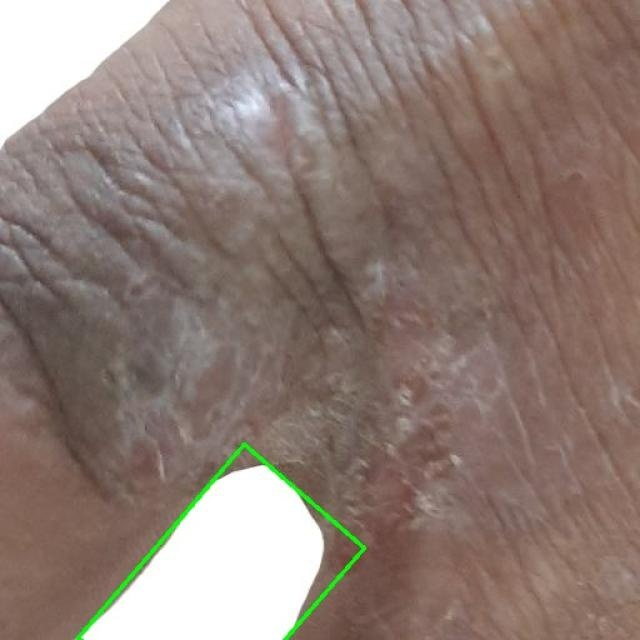Eczema: (78, 444, 365, 640)
